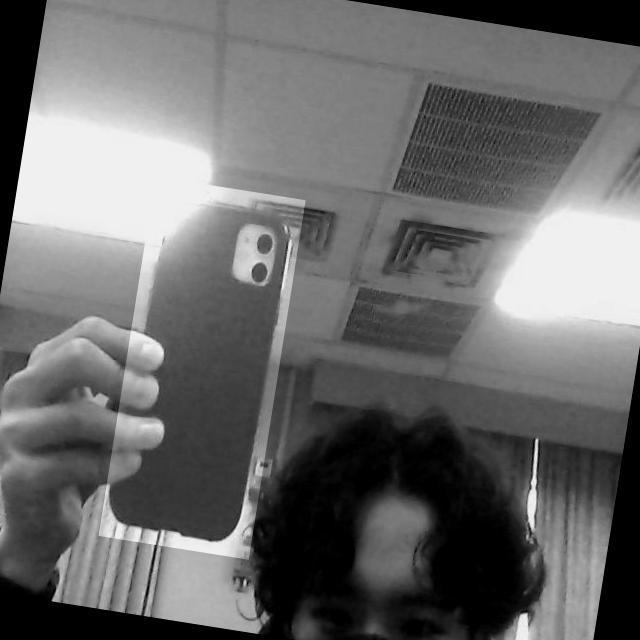lens: (232, 222, 276, 284)
phone: (98, 178, 305, 561)
